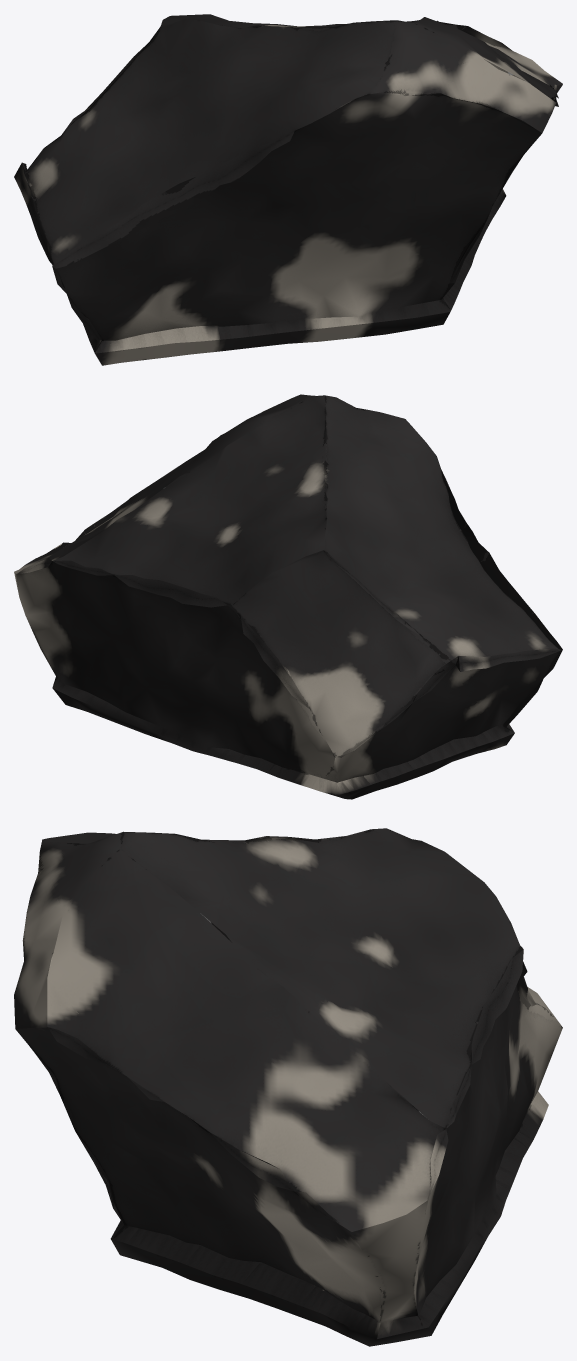
Rendered from pedernal.fbx.
The picture shows the model from 3 angles, top to bottom: view 1: azimuth 30°, elevation 25°; view 2: azimuth 150°, elevation 25°; view 3: azimuth 270°, elevation 25°; orthographic projection. The views are drawn at different scales.
Visible parts, largest first — view 1: pedernal; view 2: pedernal; view 3: pedernal.
Part boxes in pixels (x1,y1,x2,y2): pedernal: [14, 14, 562, 365]; pedernal: [14, 394, 562, 799]; pedernal: [14, 828, 562, 1346].
Size of the model in its own units: 2.07 by 1.1 by 1.38.
1 material, 1 textured.
